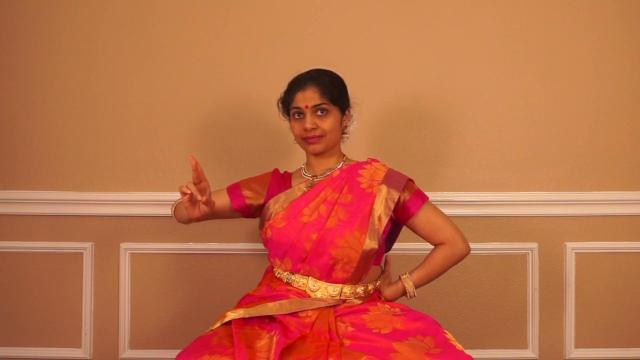kartarimukh: (147, 138, 229, 232)
